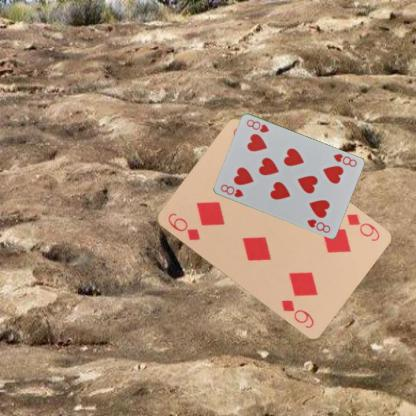6d: (343, 211, 381, 243), (165, 210, 201, 242)
8h: (218, 181, 244, 199), (330, 152, 358, 168)
